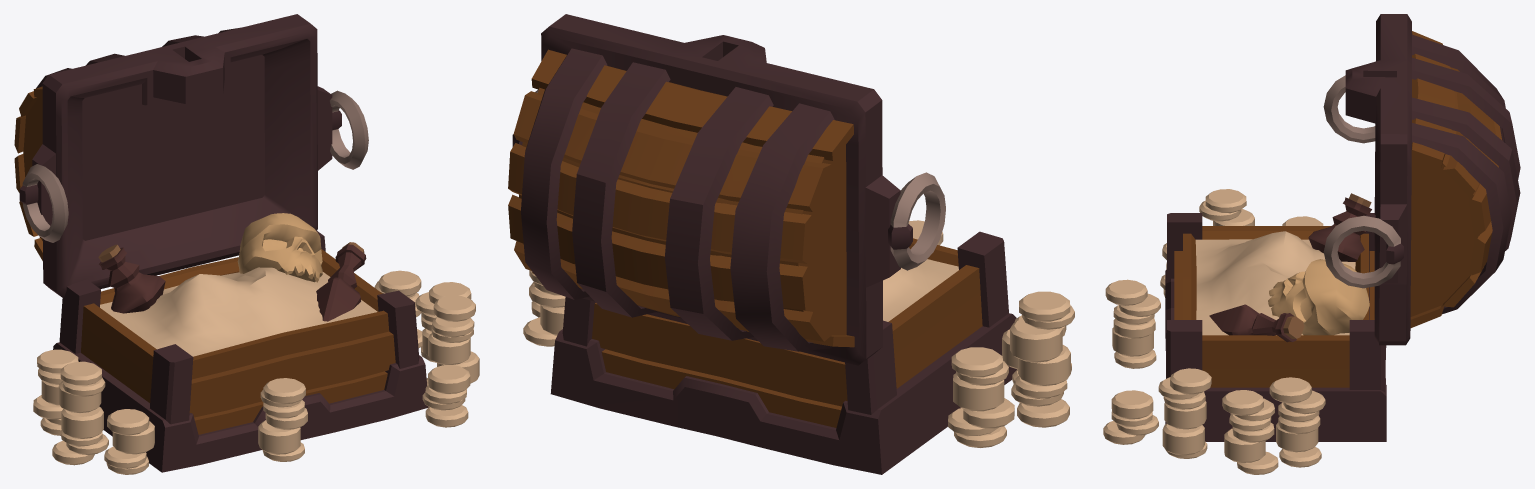
Rendered from Prop_Chest_Gold.glb.
3 renders of one model, left to right at view 1: azimuth 30°, elevation 25°; view 2: azimuth 150°, elevation 25°; view 3: azimuth 270°, elevation 25°, orthographic. The views are drawn at different scales.
Visible parts, largest first — view 1: Prop_Chest_Gold; view 2: Prop_Chest_Gold; view 3: Prop_Chest_Gold.
Part boxes in pixels (x1,y1,x2,y2): Prop_Chest_Gold: (14, 14, 479, 474); Prop_Chest_Gold: (508, 14, 1074, 474); Prop_Chest_Gold: (1103, 14, 1520, 474).
Bounding box in the file's own units: 1.82 × 1.29 × 1.59.
Materials: 1 (1 with a texture image).
